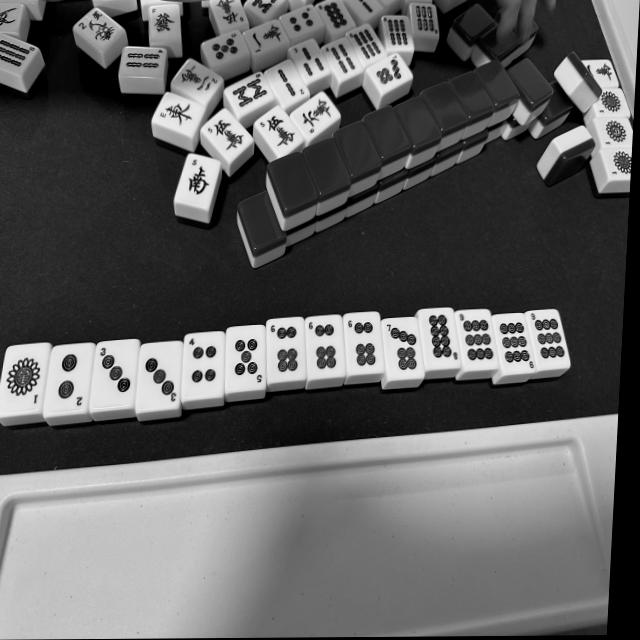t1: (2, 344, 47, 409)
t2: (49, 345, 93, 411)
t3: (139, 344, 182, 407), (95, 341, 139, 400)
t4: (183, 334, 225, 390)
t5: (227, 327, 268, 385)
t6: (264, 318, 305, 378), (306, 318, 345, 374), (344, 316, 380, 370)
t7: (383, 320, 422, 373)
t8: (425, 312, 461, 364)
t9: (496, 316, 537, 368), (528, 313, 569, 364), (457, 314, 497, 365)
